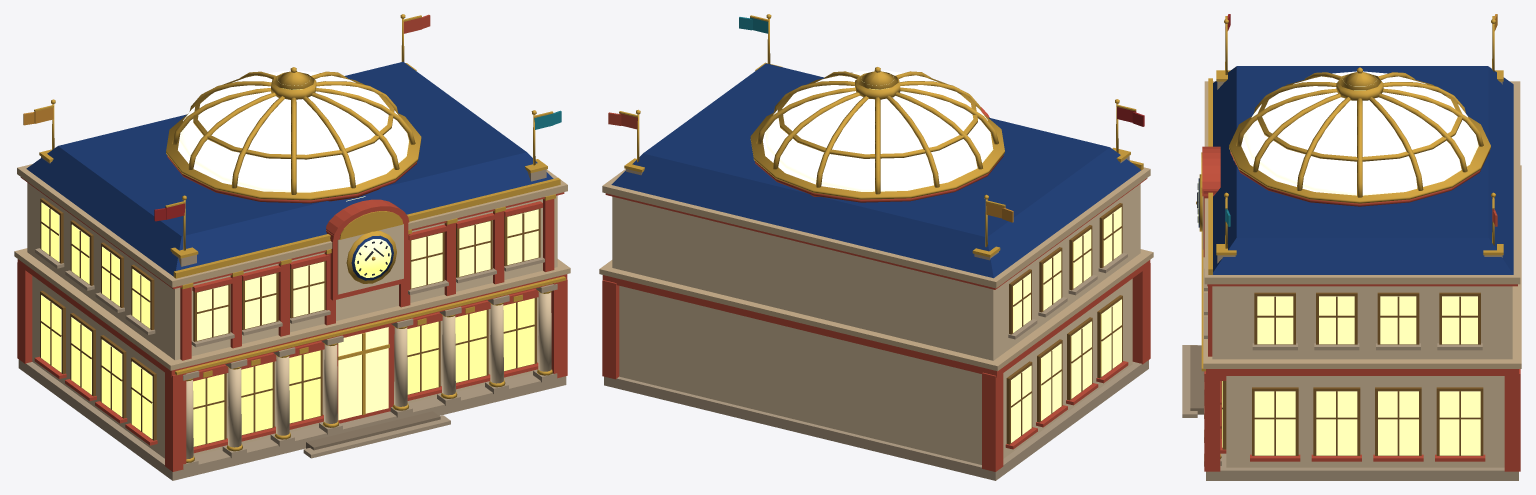
The model's file is venue_grand_mall.glb.
3 views of the same model, side by side, from view 1: azimuth 30°, elevation 25°; view 2: azimuth 150°, elevation 25°; view 3: azimuth 270°, elevation 25° (orthographic). The views are drawn at different scales.
Visible parts, largest first — view 1: venue_grand_mall; view 2: venue_grand_mall; view 3: venue_grand_mall.
Boxes of the visible parts, x1,y1,x2,y2 form: venue_grand_mall: (14,14,570,480); venue_grand_mall: (599,14,1153,480); venue_grand_mall: (1182,14,1521,480).
Bounding box in the file's own units: 18.6 × 13.58 × 13.22.
